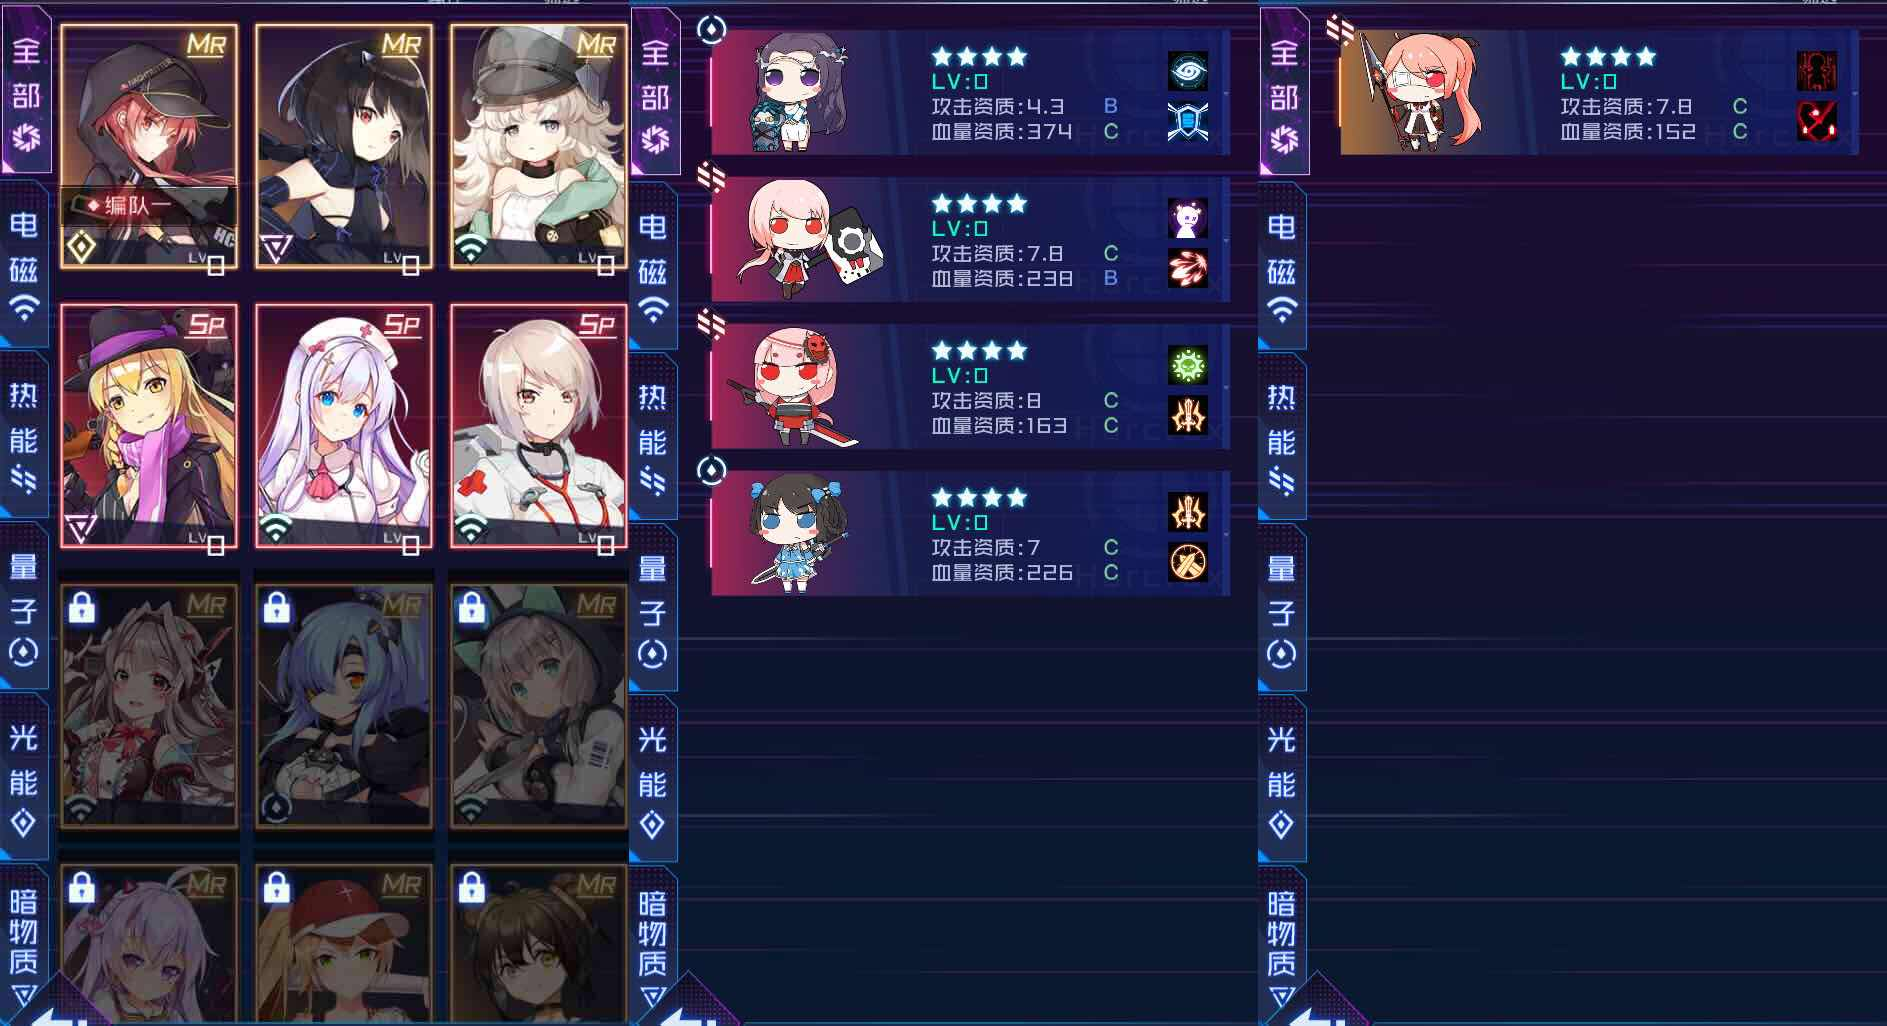sp金百莉: (52, 294, 243, 474)
